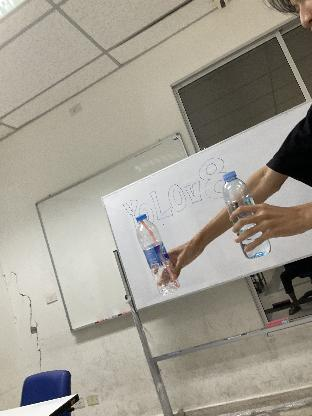Plastic Bottle: (222, 169, 272, 258), (135, 213, 181, 299)
